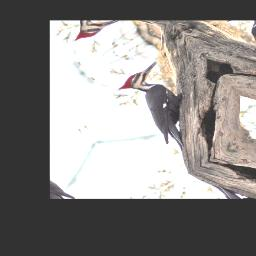Woodpecker: (113, 60, 219, 155)
